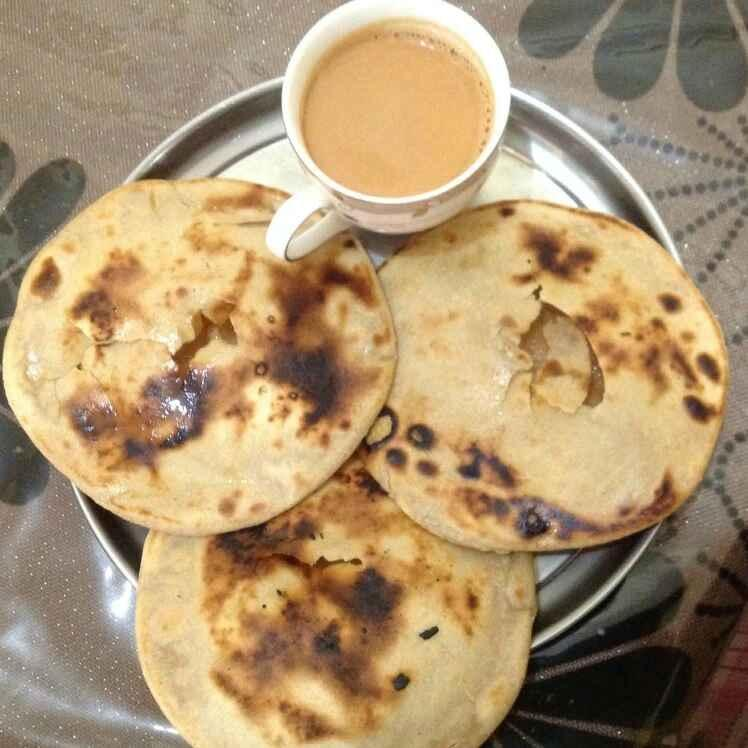bhakri: (350, 185, 743, 559), (9, 167, 404, 526), (125, 444, 543, 747)
